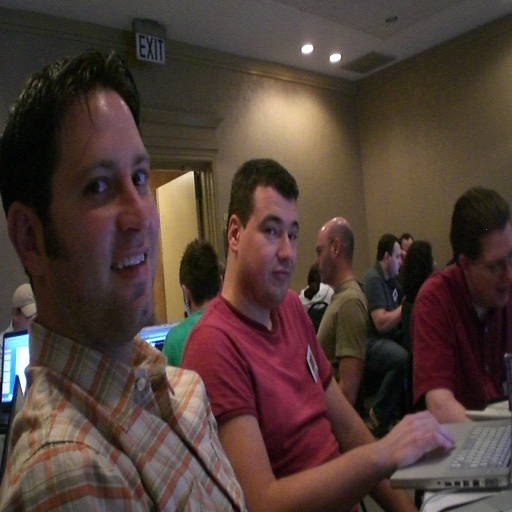hand: (371, 405, 459, 480)
